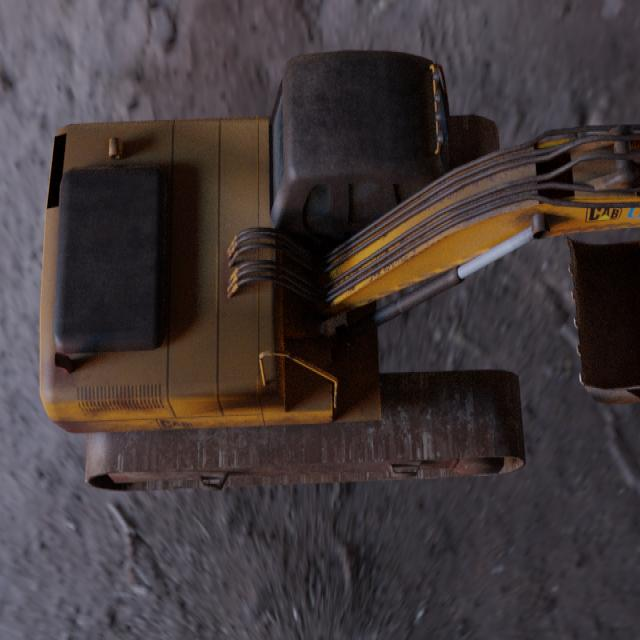excavator: (39, 48, 640, 492)
